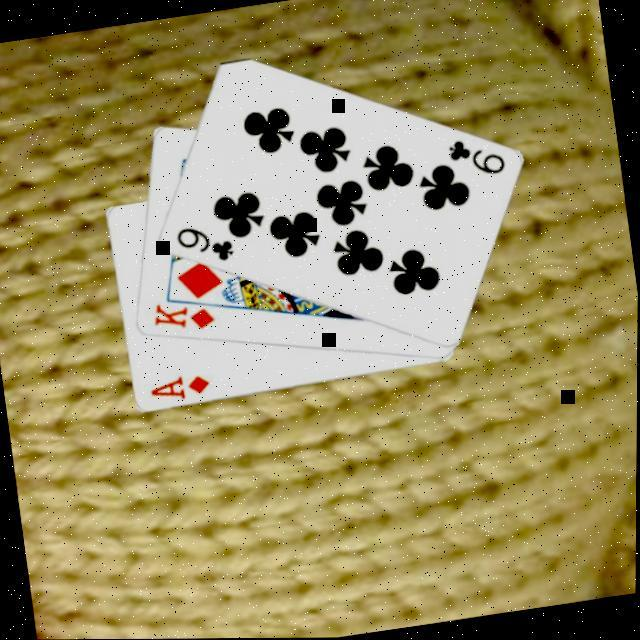9C: (170, 218, 238, 272), (442, 132, 509, 186)
AD: (146, 371, 213, 408)
KD: (147, 294, 219, 340)
